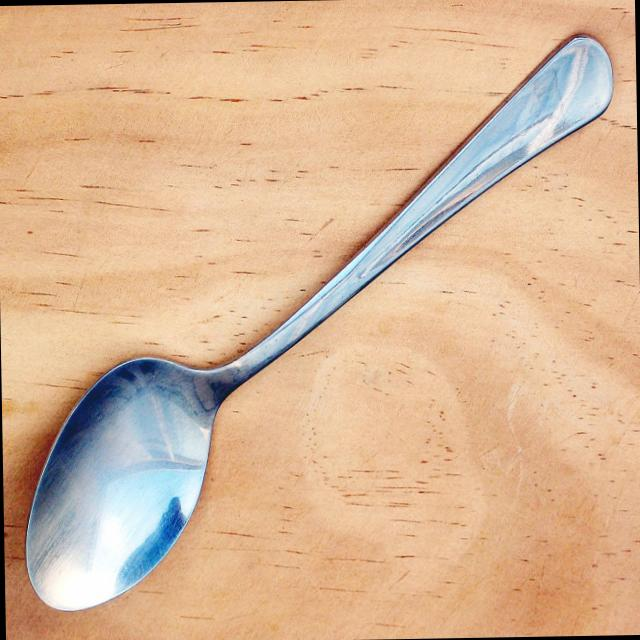spoon: (5, 16, 638, 630)
